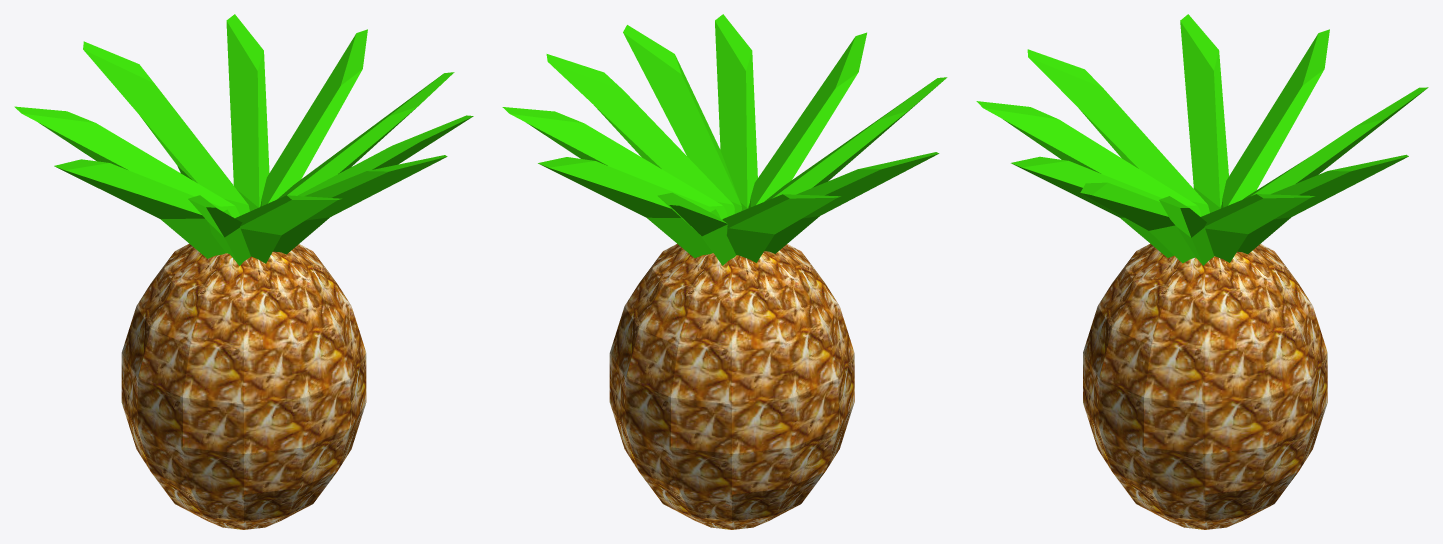
Rendered from pineapple 1(made by me).glb.
3 renders of one model, left to right at view 1: azimuth 30°, elevation 25°; view 2: azimuth 150°, elevation 25°; view 3: azimuth 270°, elevation 25°, orthographic.
Visible parts, largest first — view 1: Sphere, Cube.009; view 2: Sphere, Cube.009; view 3: Sphere, Cube.009.
Boxes of the visible parts, x1=… form: Sphere: x1=121, y1=243, x2=366, y2=529; Cube.009: x1=14, y1=14, x2=473, y2=265; Sphere: x1=609, y1=244, x2=854, y2=529; Cube.009: x1=502, y1=14, x2=947, y2=265; Sphere: x1=1083, y1=243, x2=1327, y2=529; Cube.009: x1=976, y1=14, x2=1428, y2=265.
Bounding box in the file's own units: 3.69 × 3.64 × 3.64.
2 materials, 1 textured.
